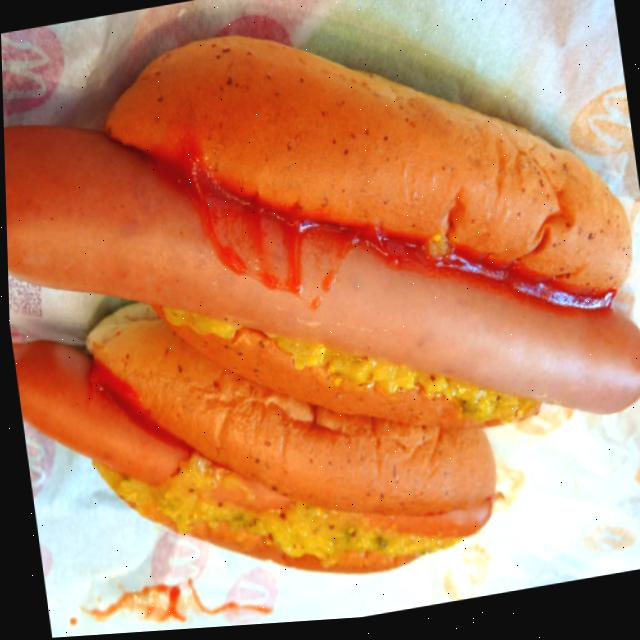汉堡快餐: (0, 0, 640, 523), (6, 237, 528, 640)
